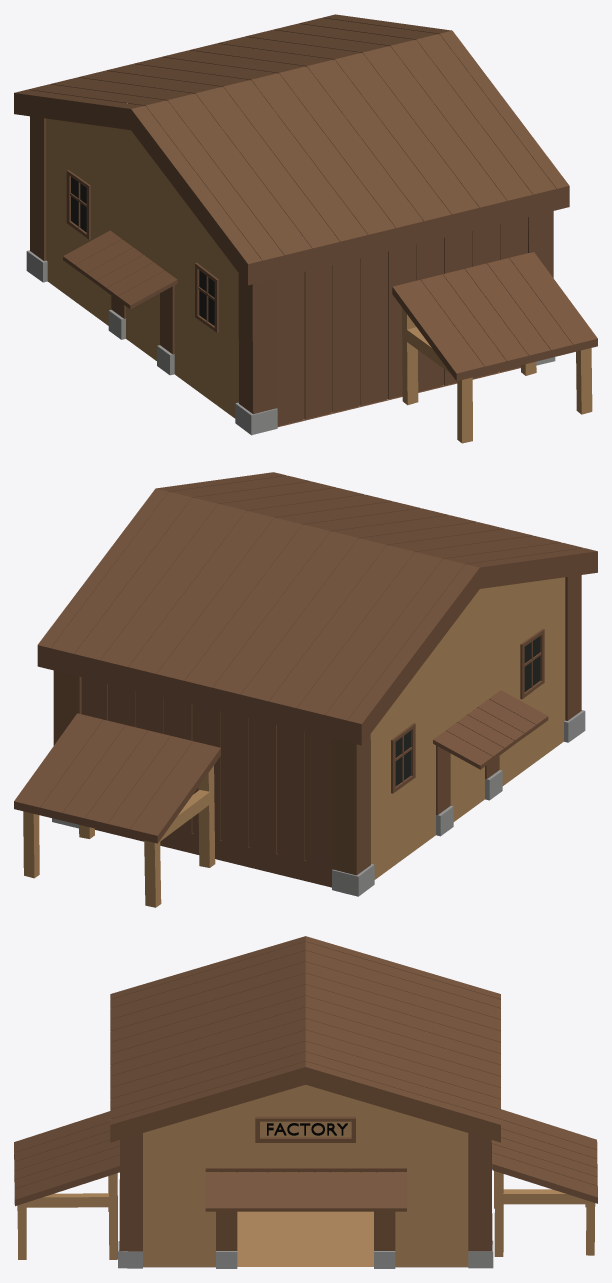
Rendered from factory_reset.fbx.
3 views of the same model, one above another, from view 1: azimuth 30°, elevation 25°; view 2: azimuth 150°, elevation 25°; view 3: azimuth 270°, elevation 25° (orthographic). The views are drawn at different scales.
Parts seen in each view (by area): view 1: Cube.001; view 2: Cube.001; view 3: Cube.001, Cube, Text.
Boxes of the visible parts, x1,y1,x2,y2 form: Cube.001: [14, 14, 597, 443]; Cube.001: [14, 472, 597, 907]; Cube.001: [14, 936, 597, 1268]; Cube: [255, 1116, 355, 1142]; Text: [267, 1123, 347, 1135].
Size of the model in its own units: 2820 by 1714 by 4372.
